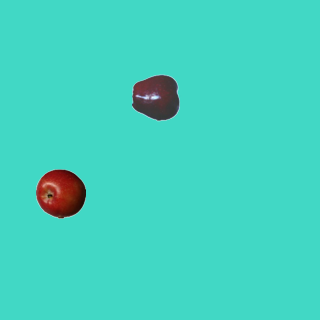Apple Braeburn: (35, 168, 85, 218)
Apple Red Delicious: (131, 72, 181, 122)
